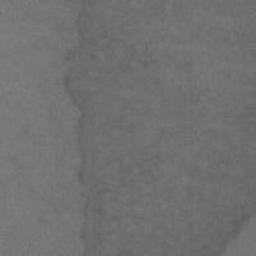Water spot: (63, 0, 256, 256)
